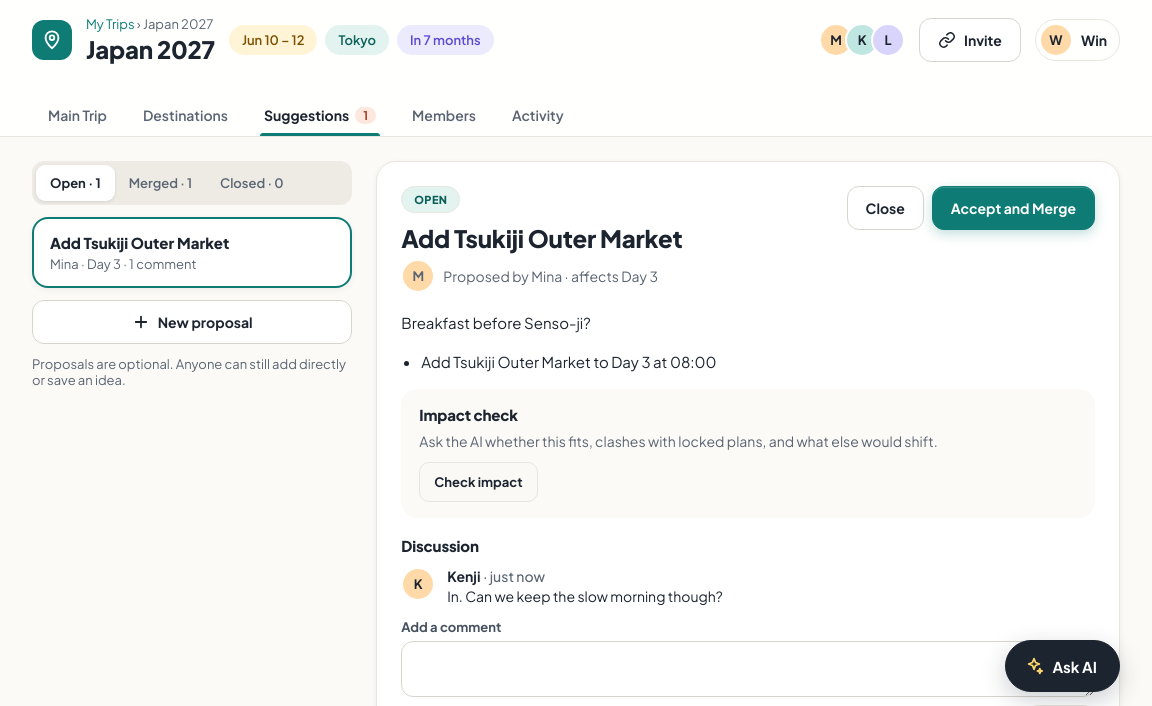
it: lists proposals by status with the open count in the tab
Check: the text named "1 open" is shown, box [355,106,376,124]
Check: the text "Mina · Day 3 · 1 comment" is shown, box [50,256,196,272]
Click the button "Merged · 1" at (160, 183), box [115,165,206,201]
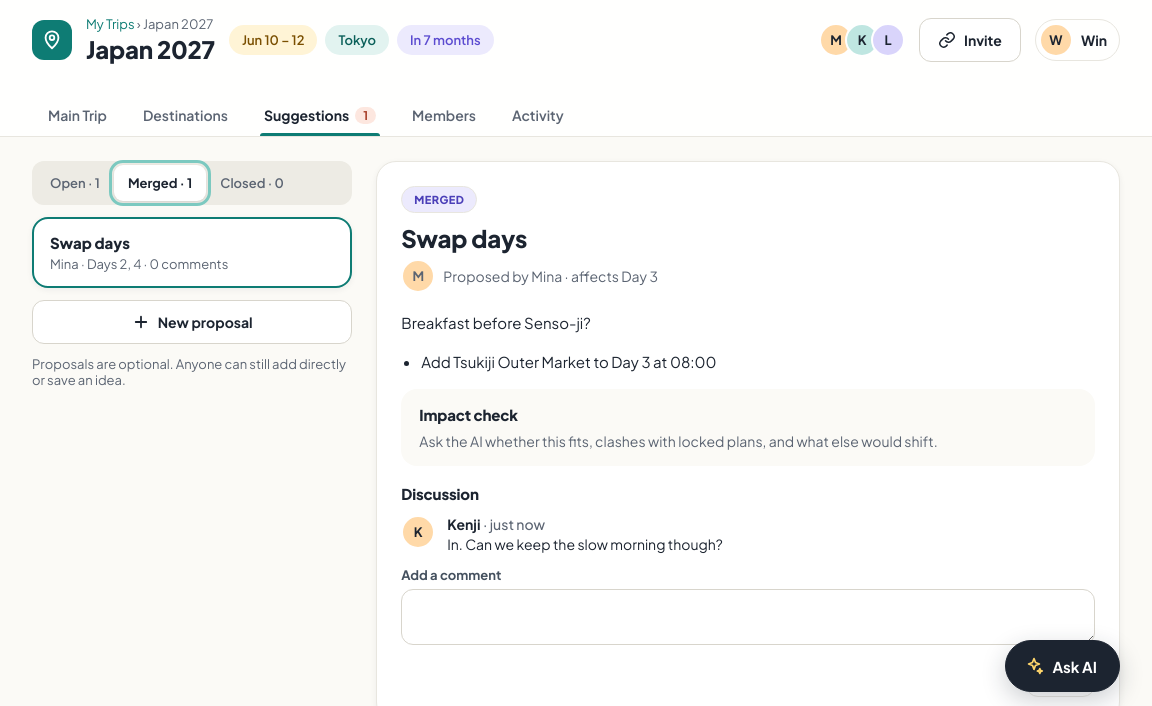
Check: the text "Mina · Days 2, 4 · 0 comments" is shown, box [50,256,228,272]
